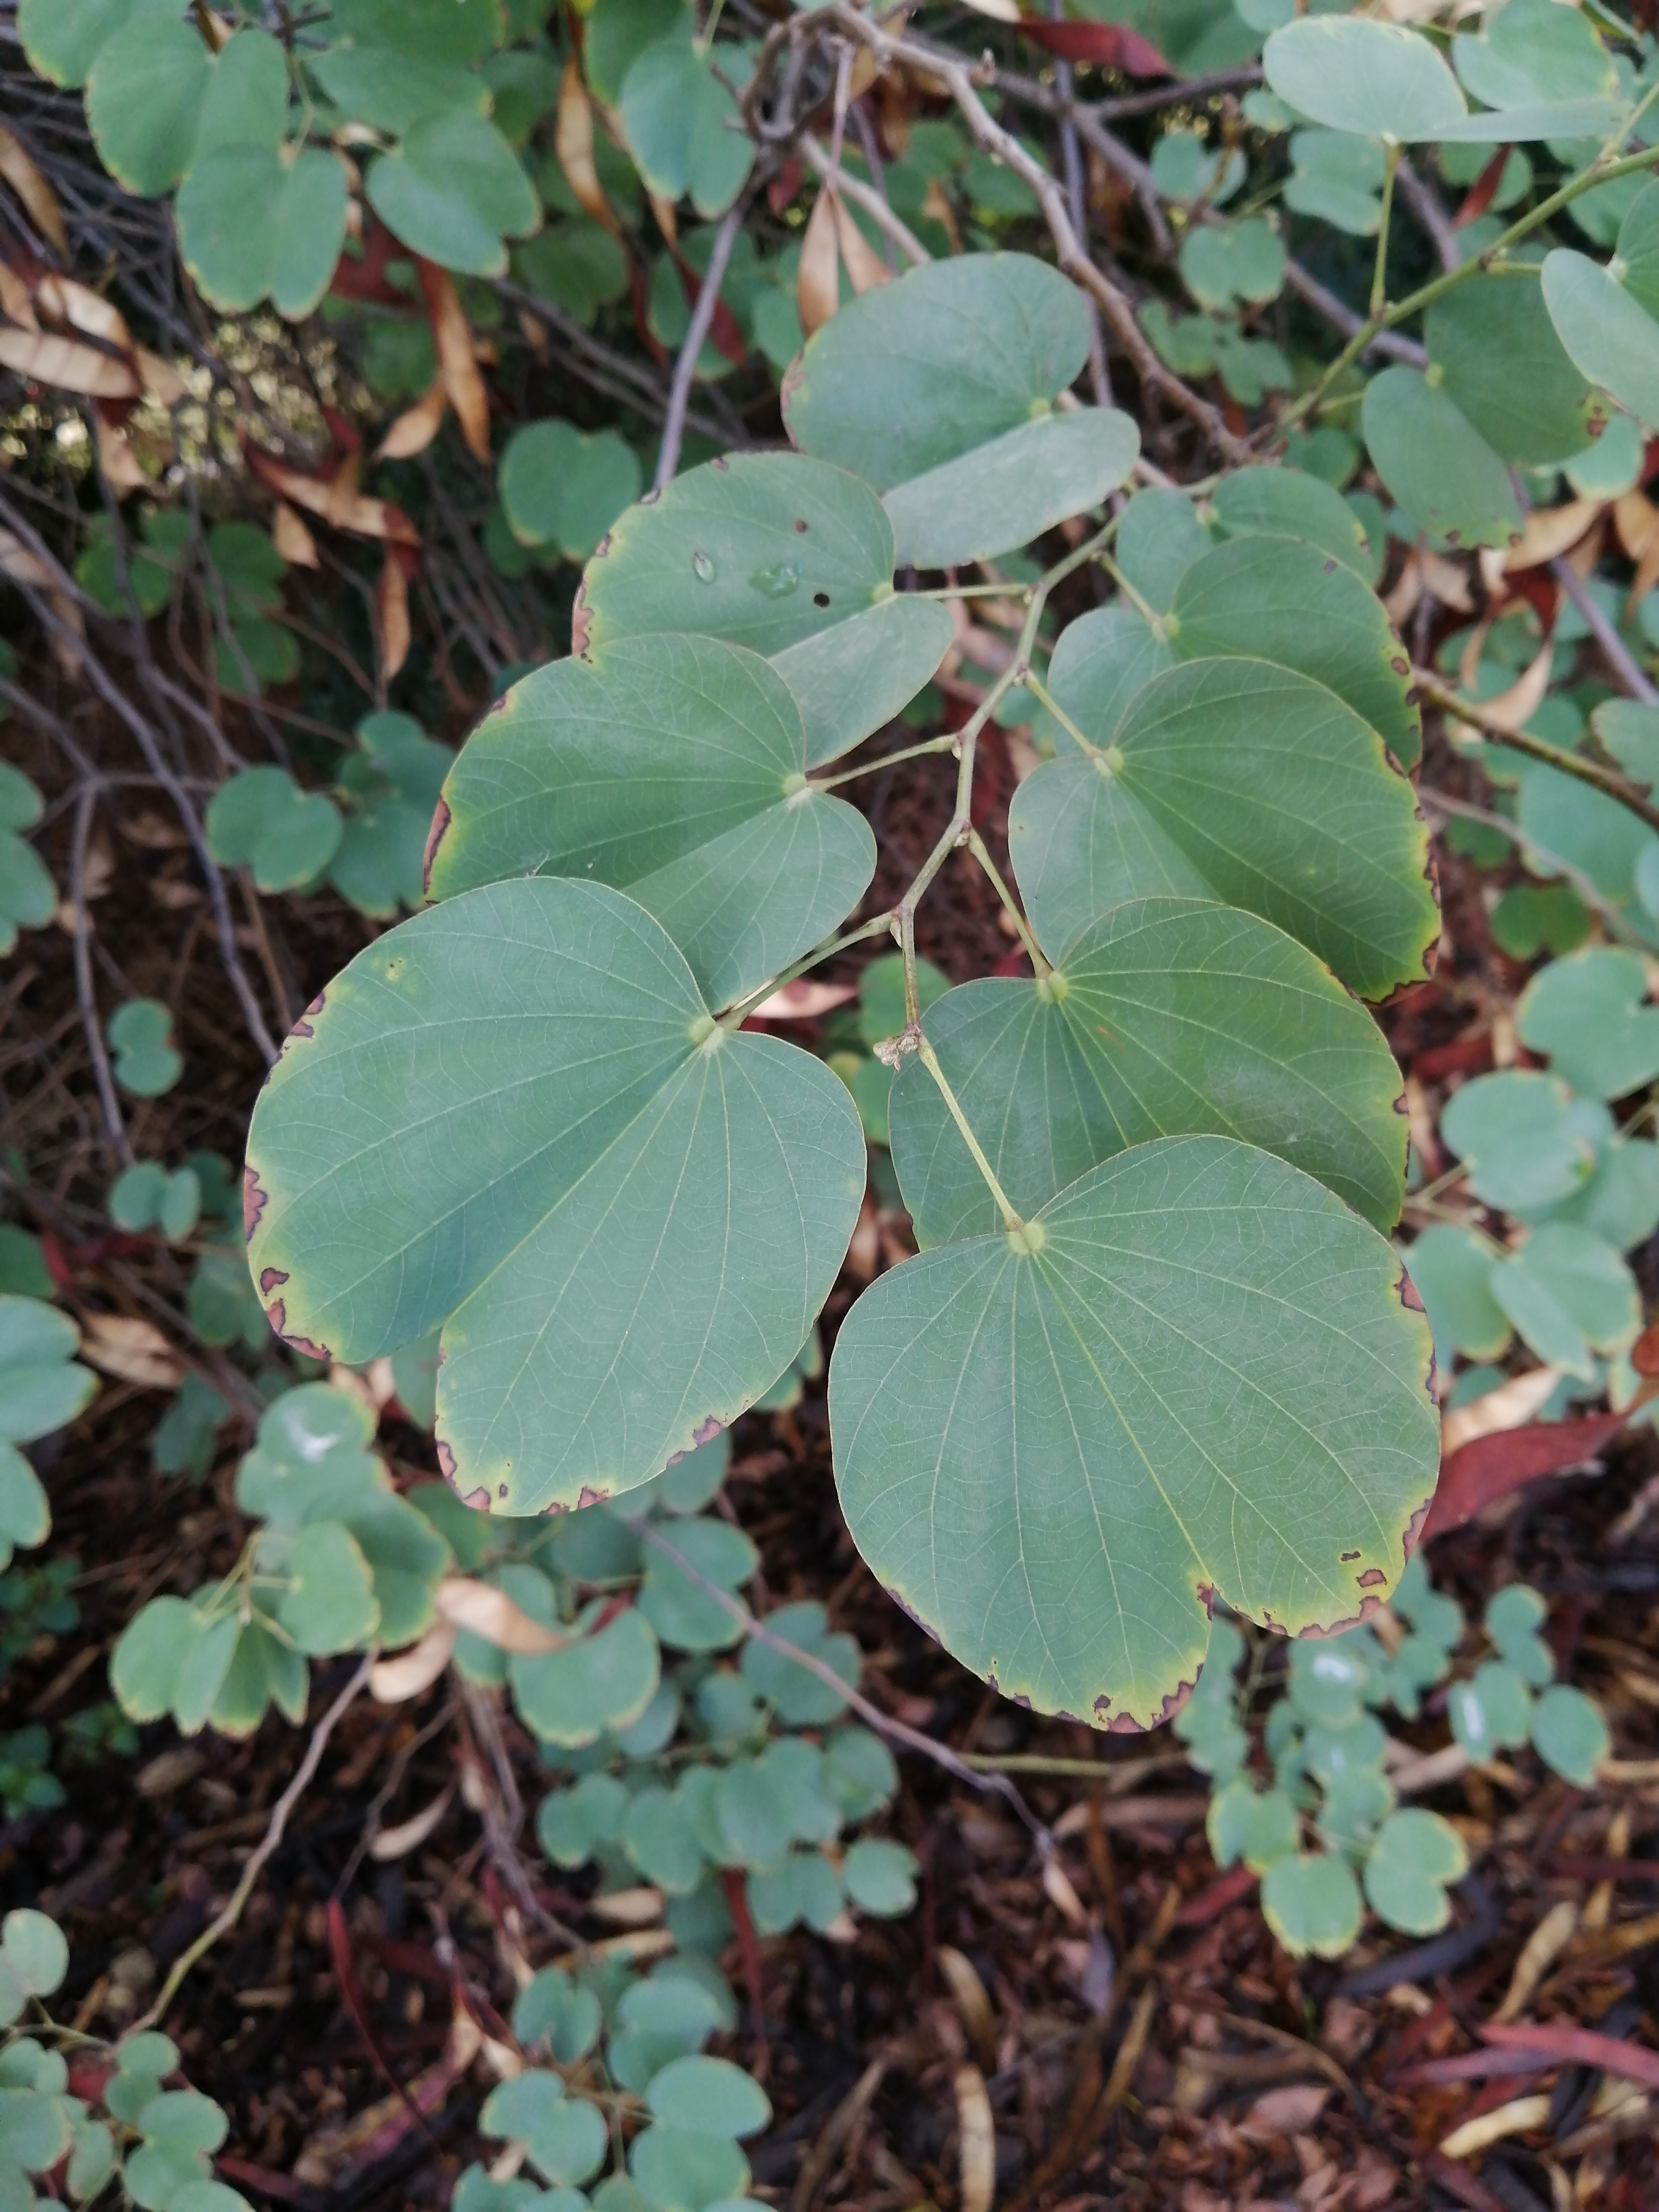nothealthy: (178, 836, 885, 1521), (793, 1143, 1469, 1742), (401, 615, 906, 1010)
